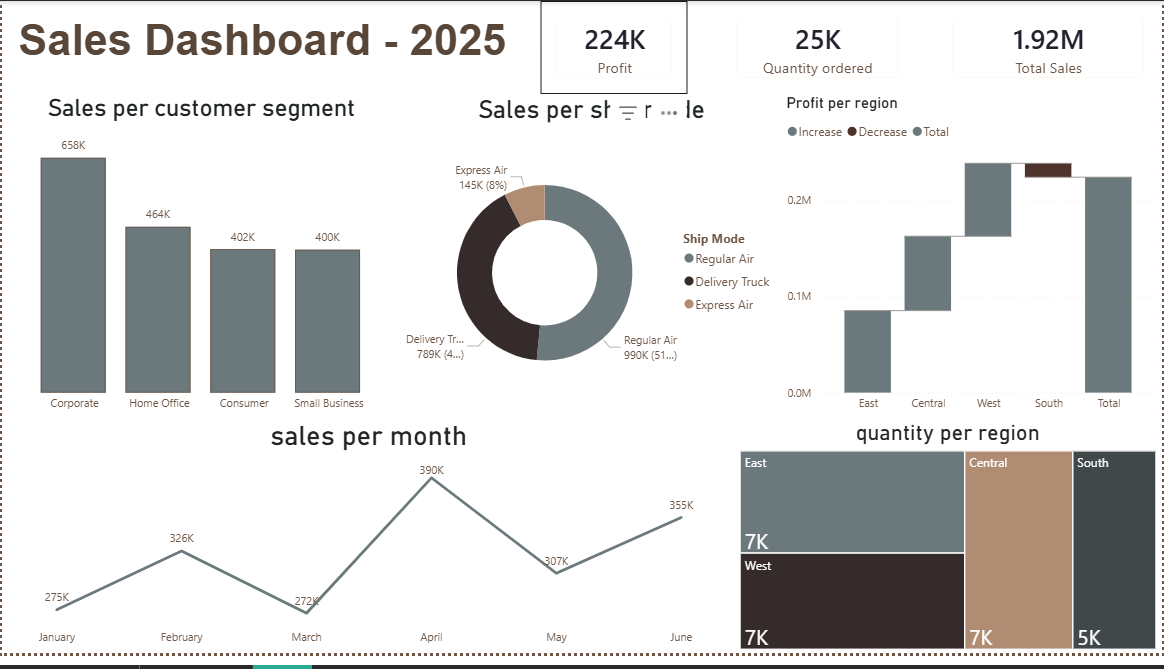

This screenshot's page, from the dashboard's own definition file:
{"tool":"powerbi","page":{"name":"Page 1","canvas":[1280,720],"ordinal":0},"visuals":[{"type":"columnChart","title":"Sales per customer segment","fields":{"Category":["Orders.Customer Segment"],"Y":["Sum(Orders.Sales)"]},"box":[0,102.7,440.6,359.5],"z":0},{"type":"donutChart","title":"Sales per ship mode","fields":{"Y":["Sum(Orders.Sales)"],"Category":["Orders.Ship Mode"]},"box":[440.6,102.7,420.7,359.5],"z":1000},{"type":"waterfallChart","title":"Profit per region","fields":{"Category":["Orders.Region"],"Y":["Sum(Orders.Profit)"]},"box":[861.4,102.7,419.1,359.5],"z":2000},{"type":"lineChart","title":"sales per month","fields":{"Y":["Sum(Orders.Sales)"],"Category":["Orders.Order Date.Variation.Date Hierarchy.Month"]},"box":[0,462.2,810,258.4],"z":3000},{"type":"treemap","title":"quantity per region","fields":{"Group":["Orders.Region"],"Values":["Sum(Orders.Quantity ordered new)"]},"box":[810,462.2,468.8,258.4],"z":4000},{"type":"textbox","box":[13.3,9.9,556.6,76.2],"z":5000},{"type":"cardVisual","fields":{"Data":["Sum(Orders.Profit)"]},"box":[594.7,0,162.3,102.7],"z":6000},{"type":"cardVisual","fields":{"Data":["Sum(Orders.Quantity ordered new)"]},"box":[793.5,0,213.7,102.7],"z":7000},{"type":"cardVisual","fields":{"Data":["Sum(Orders.Sales)"]},"box":[1032,0,246.8,102.7],"z":8000}]}

Visuals, with their boxes in screenshot pixels (x1, y1, x2, y2), scaled from the page's 1280x720 canvas onto the 1164x669 screenshot:
"Sales per customer segment" columnChart: detection(0, 95, 401, 429)
"Sales per ship mode" donutChart: detection(401, 95, 783, 429)
"Profit per region" waterfallChart: detection(783, 95, 1163, 429)
"sales per month" lineChart: detection(0, 429, 737, 668)
"quantity per region" treemap: detection(737, 429, 1163, 668)
textbox: detection(12, 9, 518, 80)
cardVisual - Sum(Orders.Profit): detection(541, 0, 688, 95)
cardVisual - Sum(Orders.Quantity ordered new): detection(722, 0, 916, 95)
cardVisual - Sum(Orders.Sales): detection(938, 0, 1163, 95)
